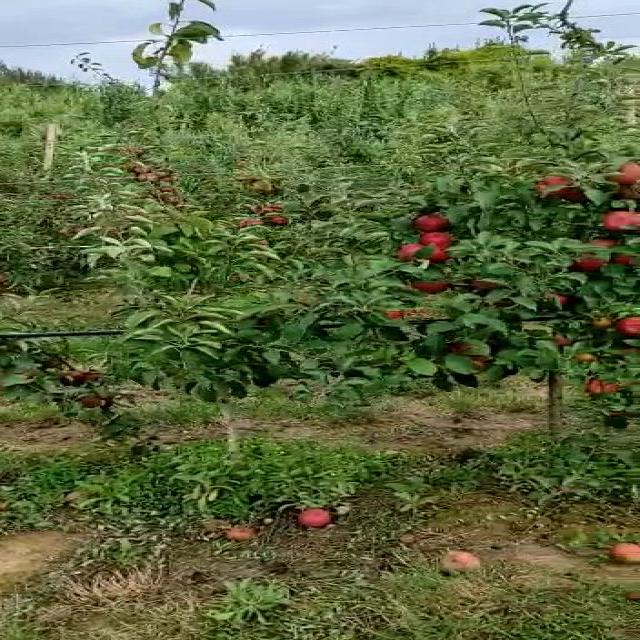100-_ripeness: (392, 241, 434, 266), (407, 210, 453, 231), (600, 163, 640, 187), (569, 250, 611, 272), (414, 227, 451, 250), (535, 177, 580, 194), (607, 210, 640, 232), (612, 315, 640, 340), (416, 276, 458, 291)
